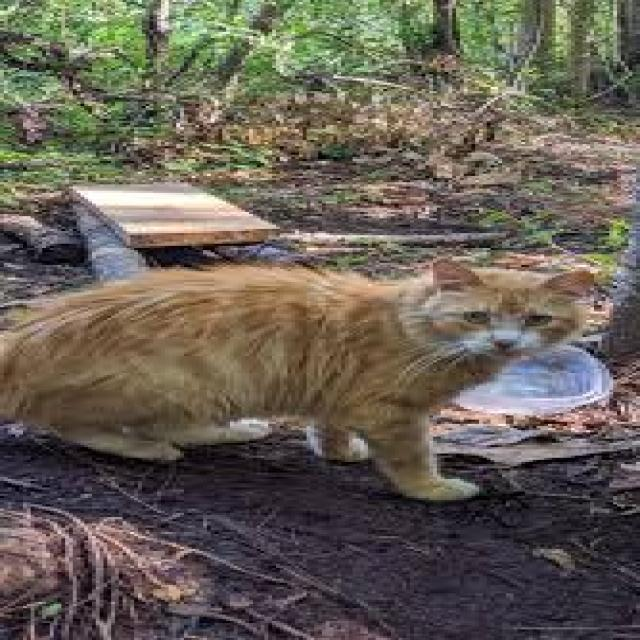cat: (2, 263, 592, 501)
